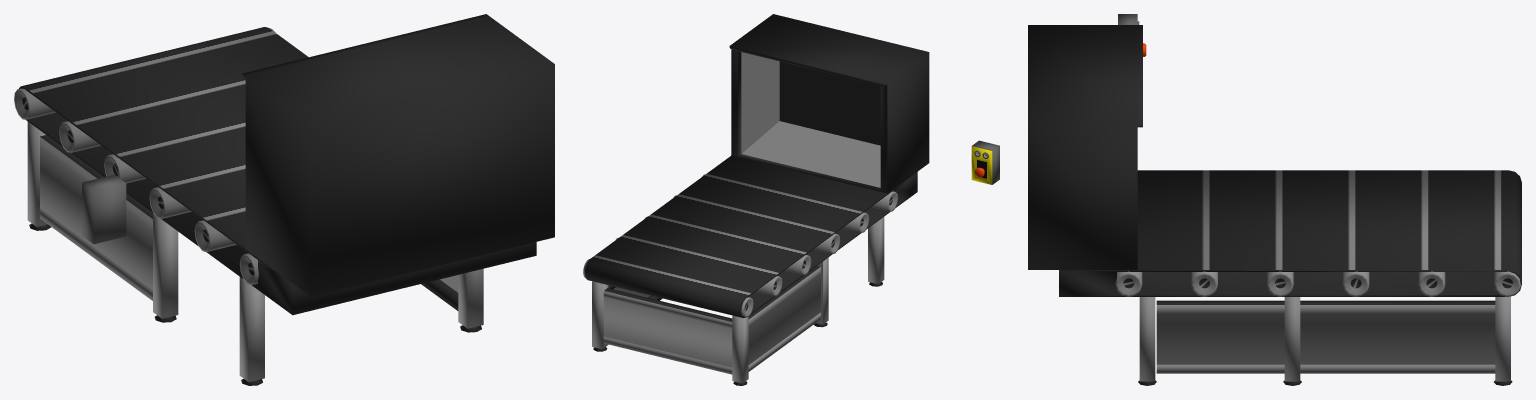
File: Conveyor Thing.fbx
3 renders of one model, left to right at view 1: azimuth 30°, elevation 25°; view 2: azimuth 150°, elevation 25°; view 3: azimuth 270°, elevation 25°, orthographic. The views are drawn at different scales.
Visible parts, largest first — view 1: ConveyorThing:Mesh, ConveyorThing2:Mesh; view 2: ConveyorThing:Mesh, ConveyorThing2:Mesh; view 3: ConveyorThing:Mesh.
Part boxes in pixels (x1=…): ConveyorThing:Mesh: x1=14, y1=14, x2=554, y2=385; ConveyorThing2:Mesh: x1=82, y1=174, x2=126, y2=244; ConveyorThing:Mesh: x1=583, y1=14, x2=929, y2=385; ConveyorThing2:Mesh: x1=971, y1=140, x2=999, y2=184; ConveyorThing:Mesh: x1=1028, y1=25, x2=1521, y2=385.
Bounding box in the file's own units: 5.05 × 3.67 × 6.27.
